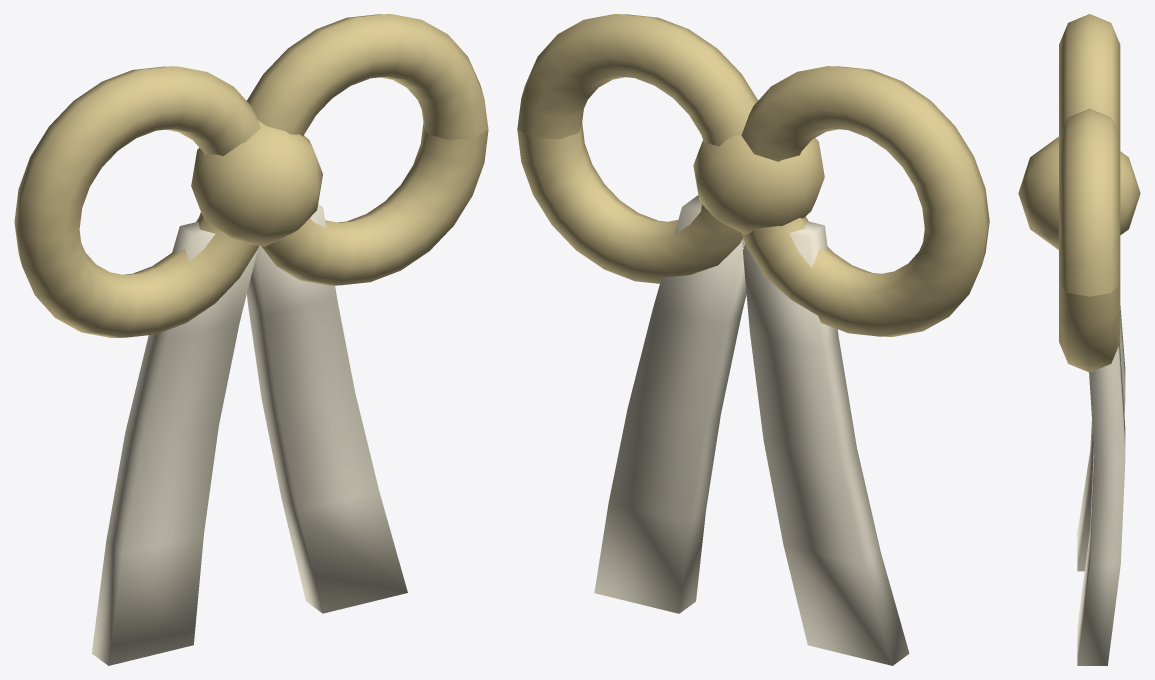
Rendered from edo.glb.
The picture shows the model from 3 angles, left to right: view 1: azimuth 30°, elevation 25°; view 2: azimuth 150°, elevation 25°; view 3: azimuth 270°, elevation 25°; orthographic projection. The views are drawn at different scales.
Parts seen in each view (by area): view 1: edo; view 2: edo; view 3: edo.
Part boxes in pixels (x1,y1,x2,y2): edo: (14, 14, 488, 665); edo: (517, 14, 989, 665); edo: (1018, 14, 1140, 665).
Bounding box in the file's own units: 0.096 × 0.114 × 0.024.
